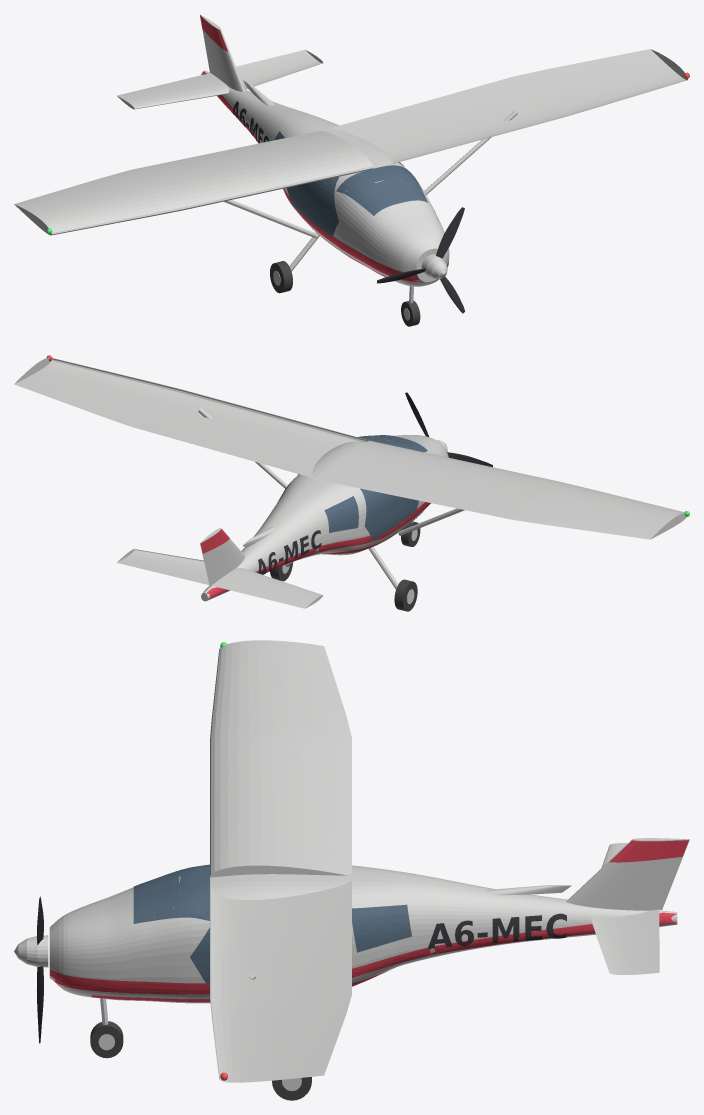
Rendered from aircraft-4.glb.
3 renders of one model, top to bottom at view 1: azimuth 30°, elevation 25°; view 2: azimuth 150°, elevation 25°; view 3: azimuth 270°, elevation 25°, orthographic. The views are drawn at different scales.
Parts seen in each view (by area): view 1: body_white, body_glass, body_red, propeller_black, body_tyre, propeller_white; view 2: body_white, body_glass, body_red, body_tyre, body_black, propeller_black; view 3: body_white, body_glass, body_red, body_black, body_tyre, propeller_white, propeller_black.
Boxes of the visible parts, bbox=[...] form: body_white: bbox=[14, 14, 687, 286]; body_glass: bbox=[275, 131, 427, 236]; body_red: bbox=[200, 15, 448, 282]; propeller_black: bbox=[377, 207, 464, 313]; body_tyre: bbox=[270, 261, 420, 326]; propeller_white: bbox=[421, 254, 447, 279]; body_white: bbox=[14, 357, 686, 608]; body_glass: bbox=[277, 435, 427, 540]; body_red: bbox=[200, 502, 430, 599]; body_tyre: bbox=[270, 521, 420, 611]; body_black: bbox=[258, 530, 321, 574]; propeller_black: bbox=[405, 392, 492, 467]; body_white: bbox=[49, 640, 689, 1082]; body_glass: bbox=[133, 864, 411, 984]; body_red: bbox=[50, 840, 688, 1002]; body_black: bbox=[427, 913, 566, 948]; body_tyre: bbox=[90, 1021, 311, 1100]; propeller_white: bbox=[14, 935, 48, 967]; propeller_black: bbox=[37, 896, 43, 1043].
Bounding box in the file's own units: 9.55 × 2.22 × 6.29.
